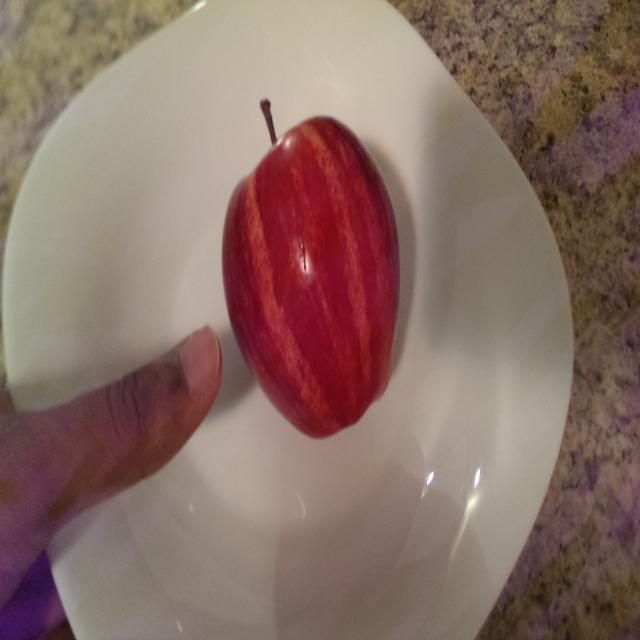Apple: (220, 92, 409, 447)
Finger: (80, 316, 226, 517)
